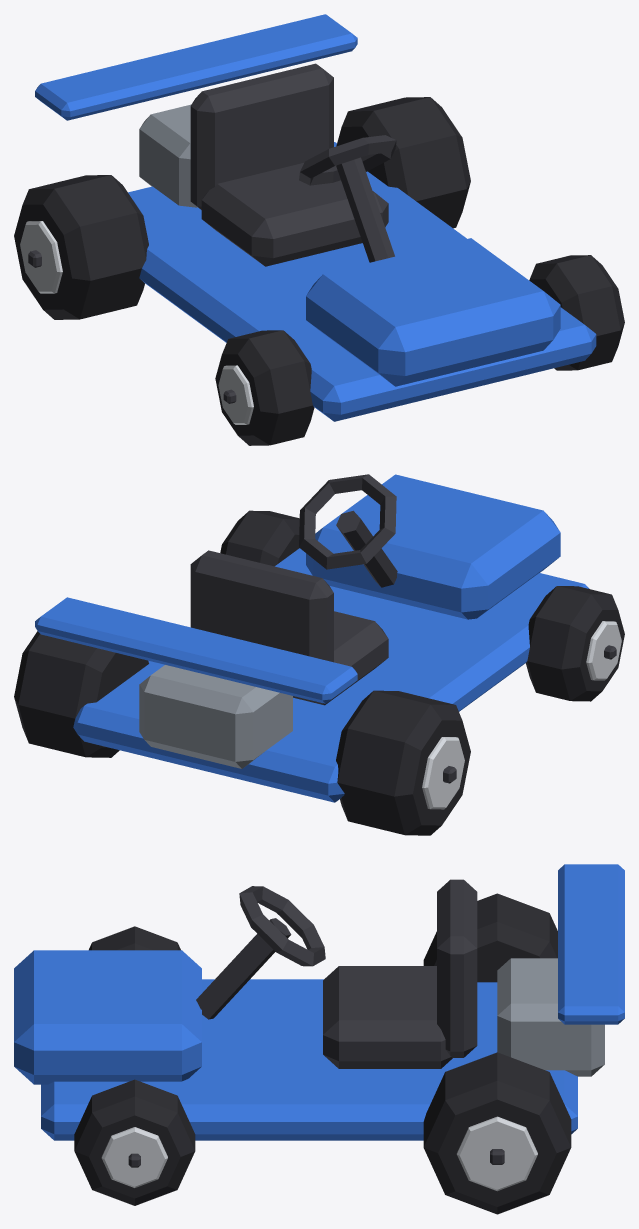
The model's file is BlueGoKart.fbx.
3 renders of one model, top to bottom at view 1: azimuth 30°, elevation 25°; view 2: azimuth 150°, elevation 25°; view 3: azimuth 270°, elevation 25°, orthographic. The views are drawn at different scales.
Parts seen in each view (by area): view 1: BlueGoKart, BlueGoKart_WheelBR, BlueGoKart_WheelBL, BlueGoKart_WheelFR, BlueGoKart_WheelFL; view 2: BlueGoKart, BlueGoKart_WheelBR, BlueGoKart_WheelBL, BlueGoKart_WheelFR, BlueGoKart_WheelFL; view 3: BlueGoKart, BlueGoKart_WheelBL, BlueGoKart_WheelFL, BlueGoKart_WheelBR, BlueGoKart_WheelFR.
Part boxes in pixels (x1,y1,x2,y2): BlueGoKart: [35, 14, 596, 421]; BlueGoKart_WheelBR: [14, 175, 148, 319]; BlueGoKart_WheelBL: [336, 97, 470, 228]; BlueGoKart_WheelFR: [215, 330, 314, 445]; BlueGoKart_WheelFL: [529, 255, 624, 370]; BlueGoKart: [35, 474, 589, 802]; BlueGoKart_WheelBR: [336, 690, 470, 835]; BlueGoKart_WheelBL: [14, 631, 148, 757]; BlueGoKart_WheelFR: [526, 586, 624, 701]; BlueGoKart_WheelFL: [220, 510, 299, 566]; BlueGoKart: [14, 864, 624, 1140]; BlueGoKart_WheelBL: [423, 1052, 571, 1214]; BlueGoKart_WheelFL: [74, 1079, 195, 1205]; BlueGoKart_WheelBR: [423, 893, 557, 982]; BlueGoKart_WheelFR: [89, 926, 180, 950].
Size of the model in its own units: 3.72 by 1.88 by 4.55.
Materials: 1 (1 with a texture image).
